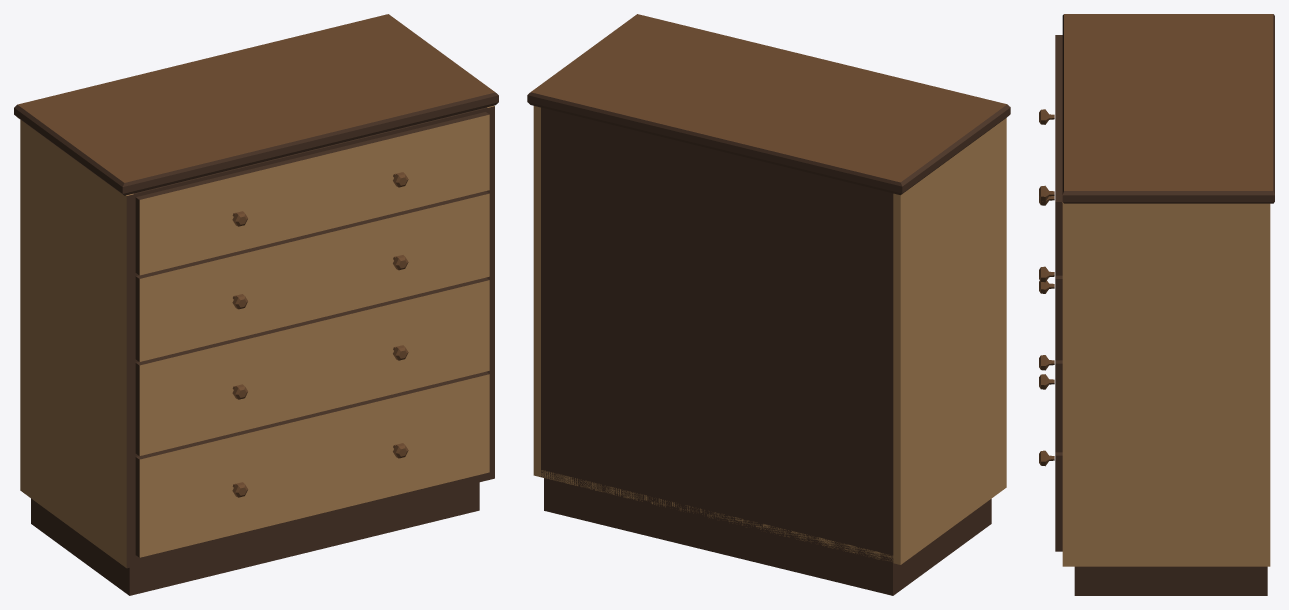
The model's file is FN_Chest_Drawers.glb.
The picture shows the model from 3 angles, left to right: view 1: azimuth 30°, elevation 25°; view 2: azimuth 150°, elevation 25°; view 3: azimuth 270°, elevation 25°; orthographic projection. The views are drawn at different scales.
Parts seen in each view (by area): view 1: FN_Chest_Drawers; view 2: FN_Chest_Drawers; view 3: FN_Chest_Drawers.
Boxes of the visible parts, x1,y1,x2,y2 form: FN_Chest_Drawers: (14,14,498,595); FN_Chest_Drawers: (527,14,1010,595); FN_Chest_Drawers: (1039,14,1274,595).
Size of the model in its own units: 0.92 by 0.98 by 0.511.
Materials: 1 (1 with a texture image).
